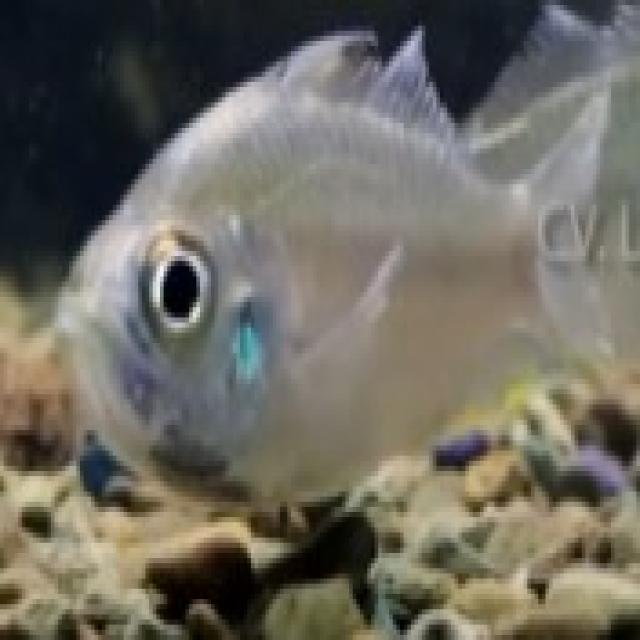Glass-Perchlet: (36, 0, 622, 543)
